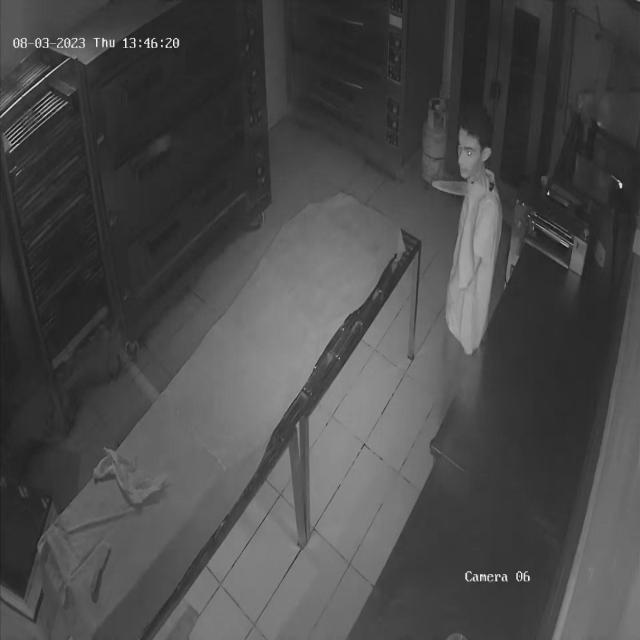Knife: (423, 172, 499, 206)
